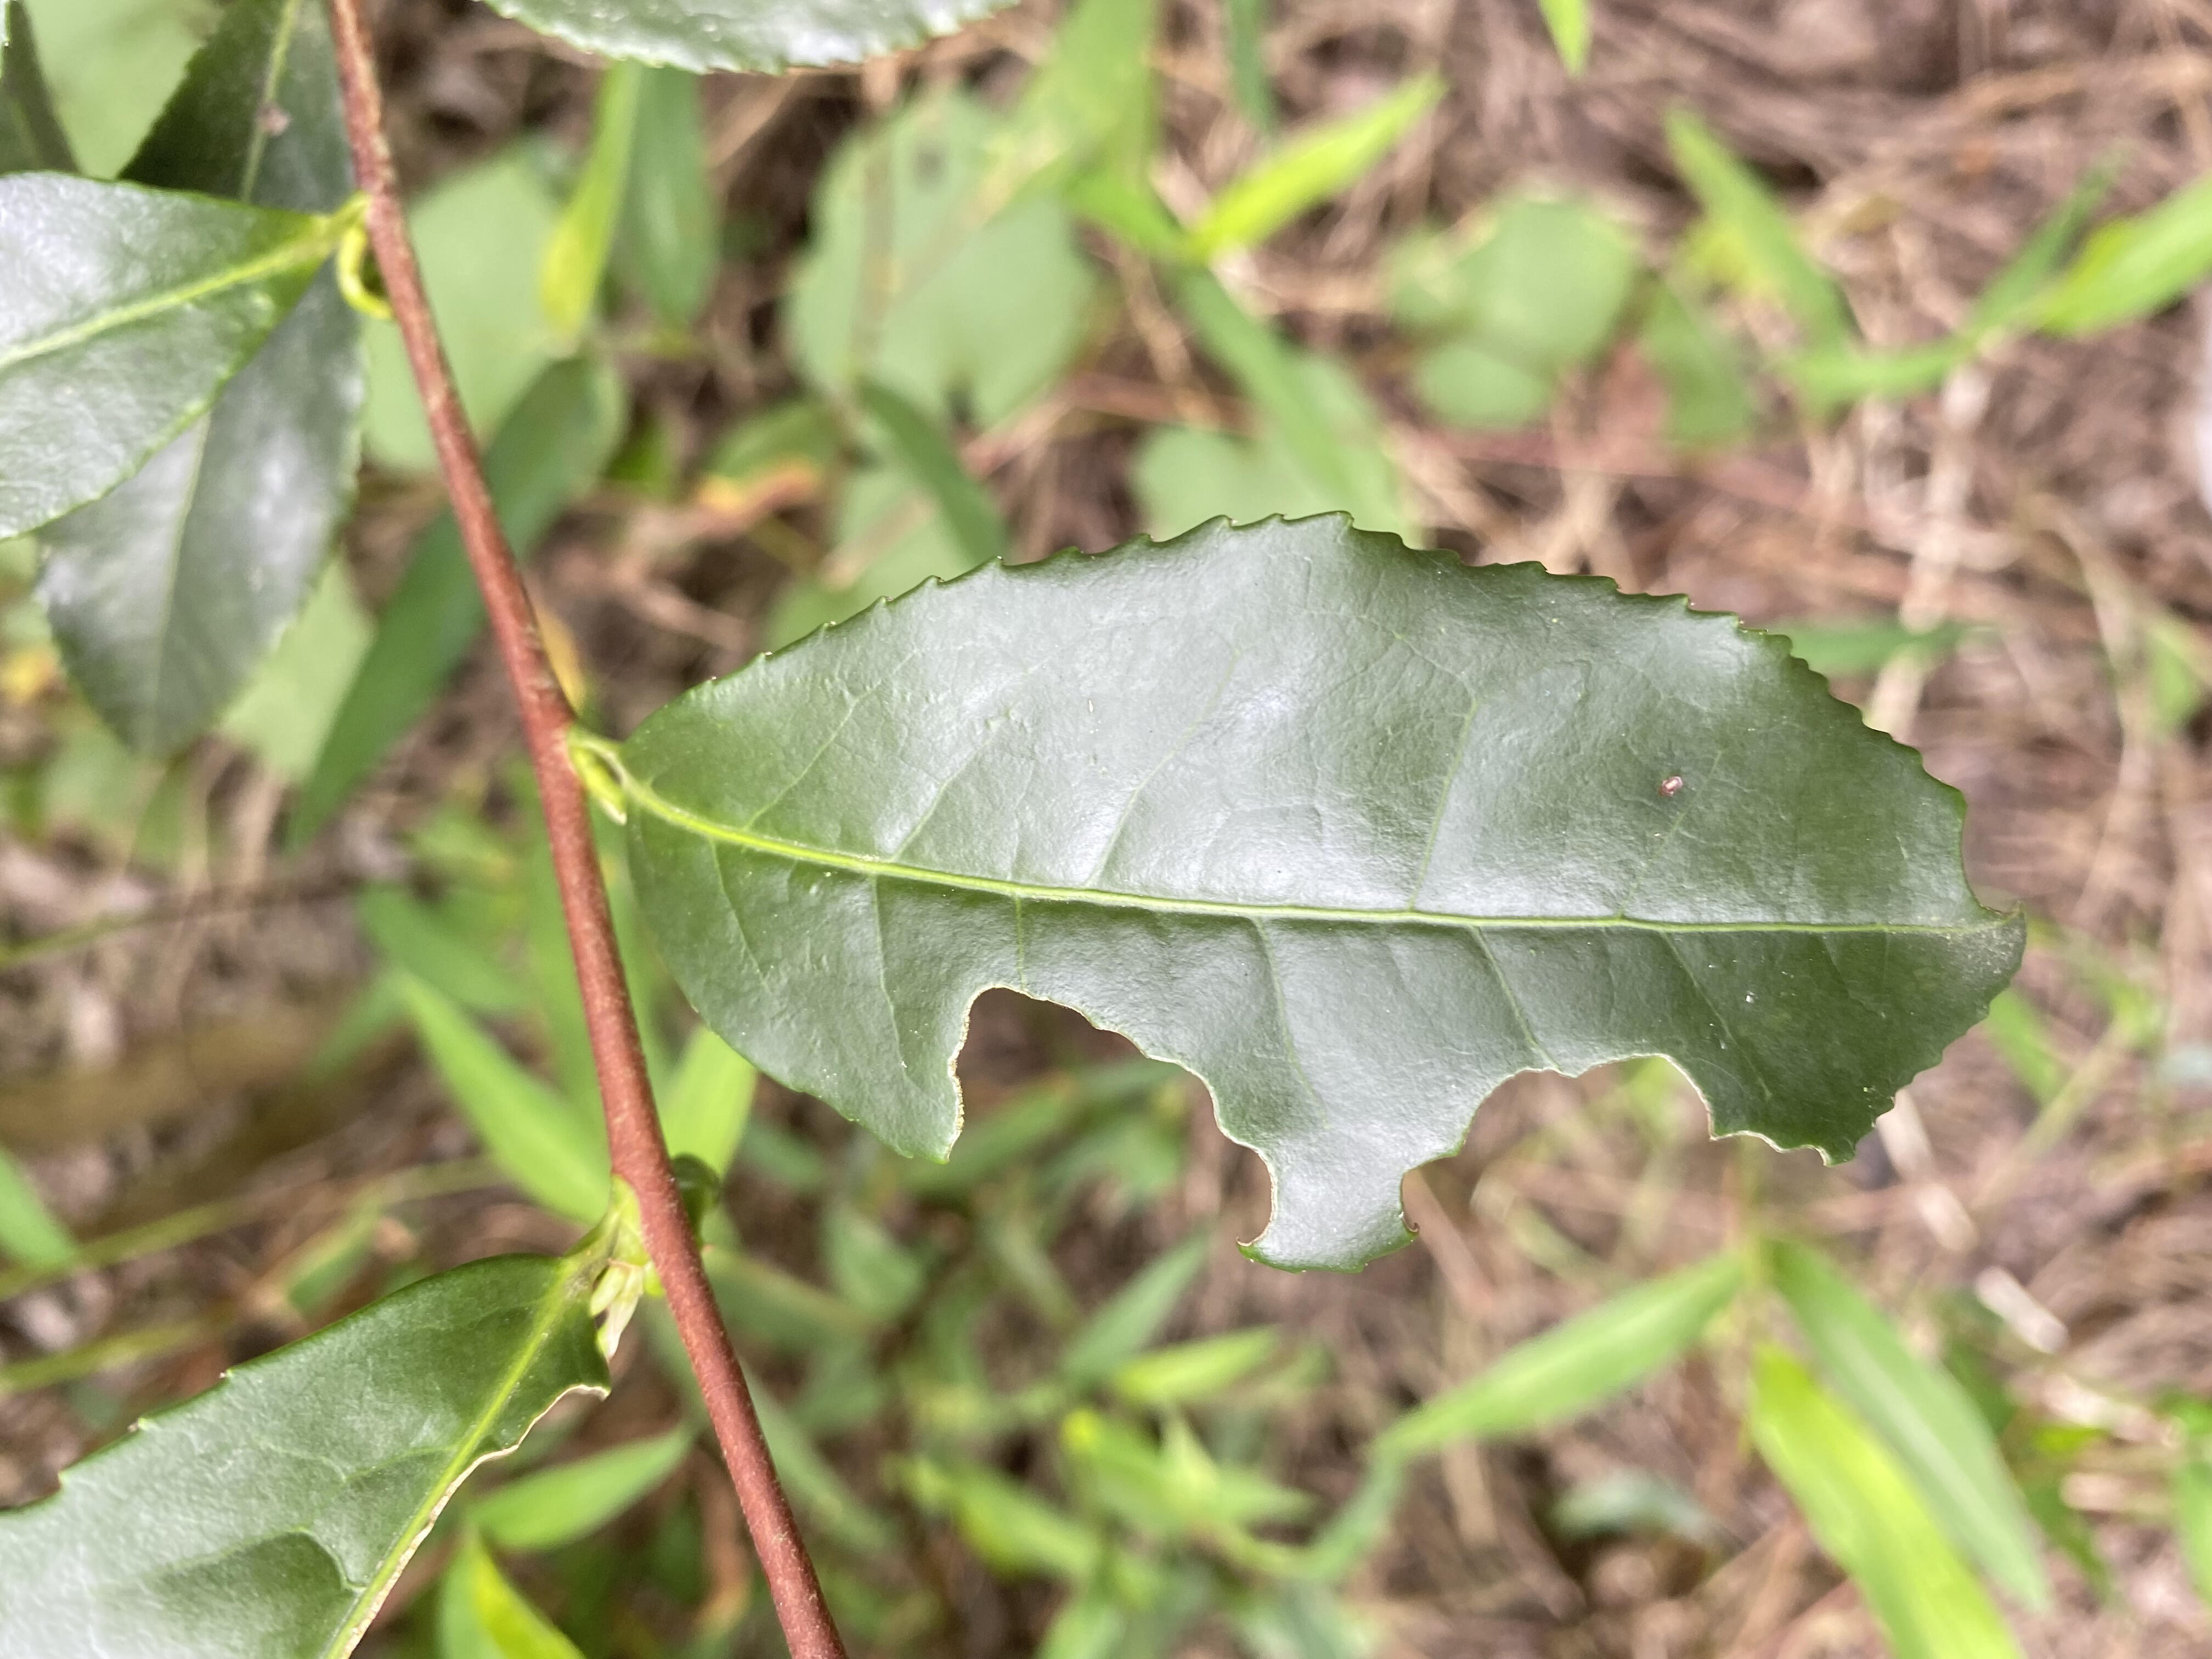chihuo_high: (618, 507, 2027, 1274), (3, 1249, 613, 1657)
